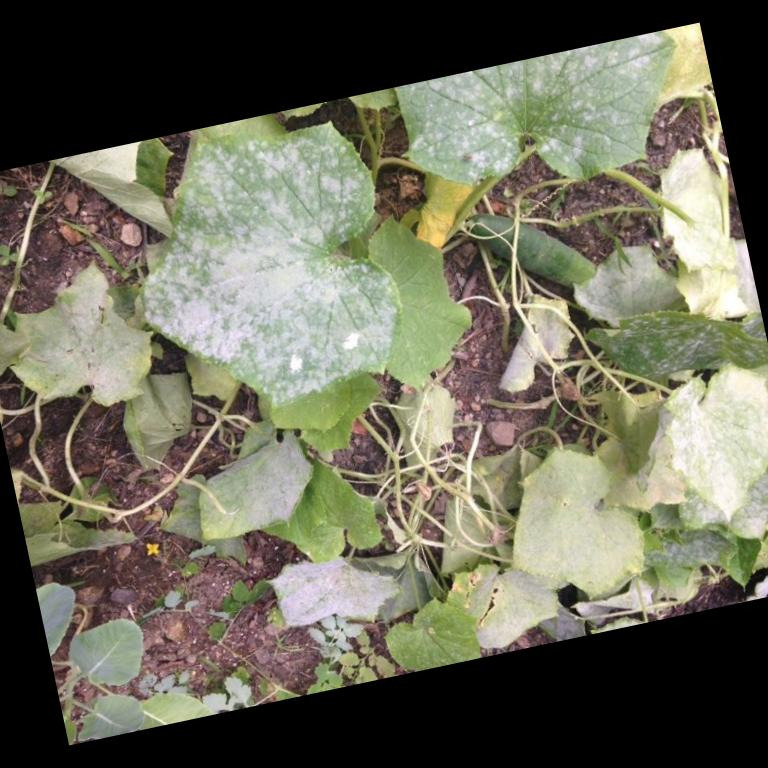powdery-mildew: (181, 185, 342, 361)
